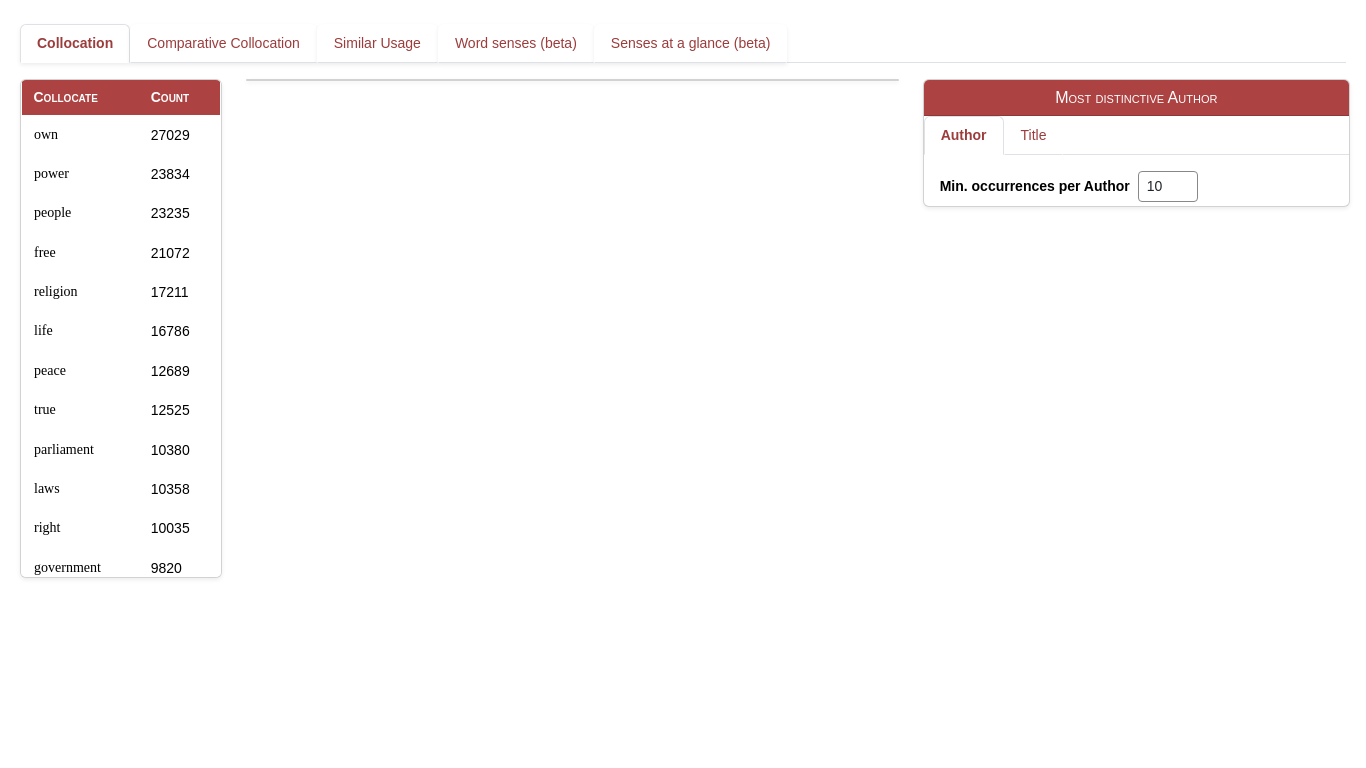
Collocation › switches to compare view on compare tab click
The width and height of the screenshot is (1366, 768).
Click the tab with id "compare-tab". click: (223, 44)
box: [130,24,317,63]
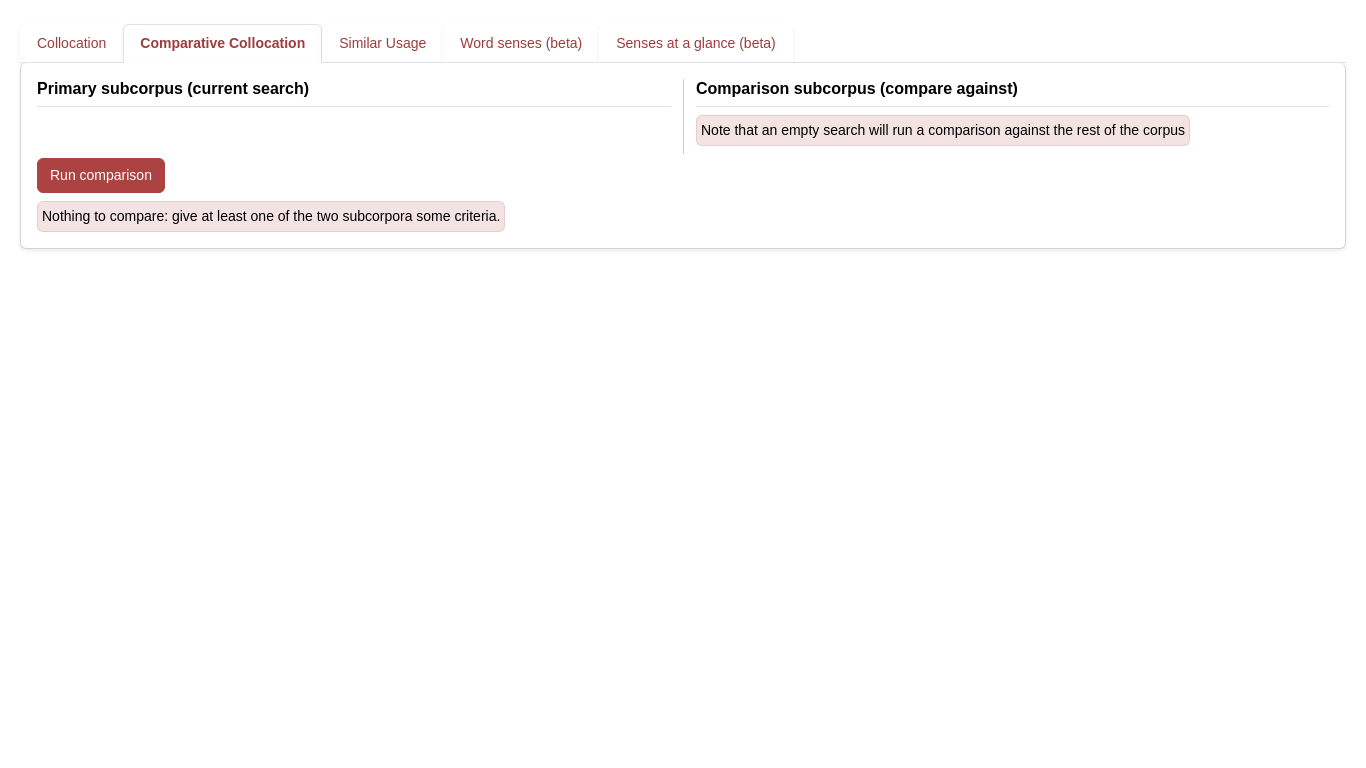
Expected: the element with class "compare-divider" is shown, [683,79,1341,154]
